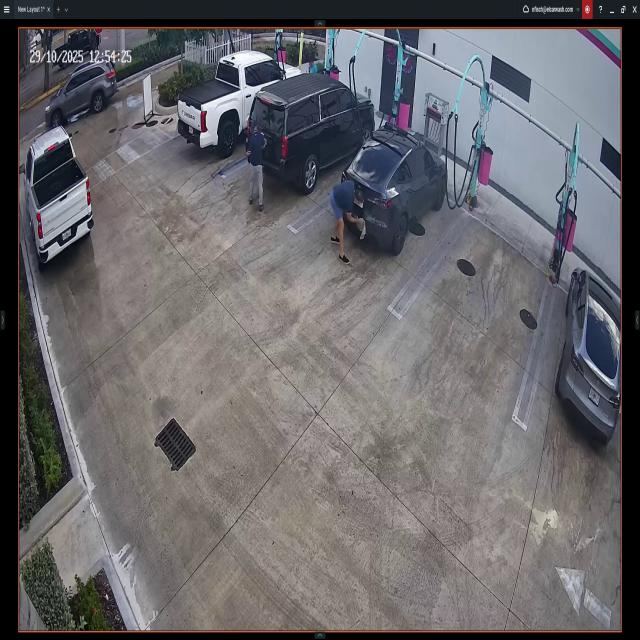Car: (248, 76, 374, 191), (175, 51, 300, 156), (344, 124, 446, 249), (22, 130, 94, 259), (564, 269, 619, 435), (44, 60, 118, 125)
